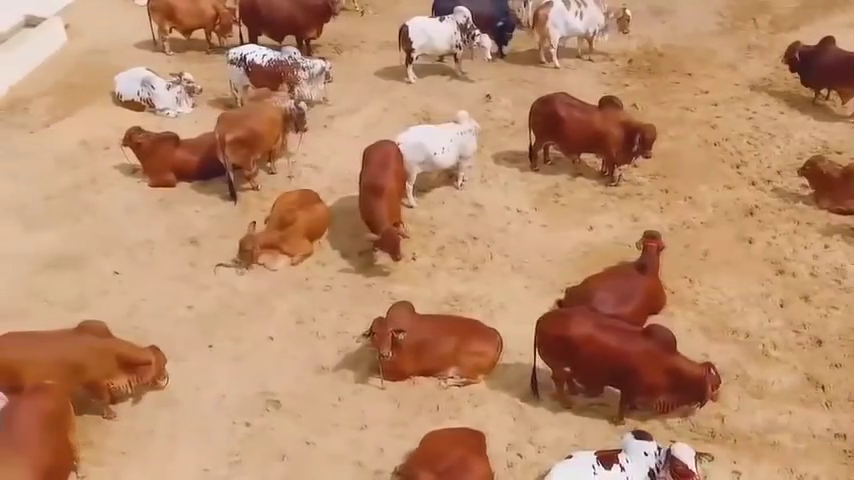bo: (514, 293, 729, 425), (9, 313, 170, 421), (513, 77, 657, 191), (367, 289, 513, 397), (220, 172, 339, 280), (208, 80, 315, 194), (558, 218, 681, 315), (526, 416, 709, 479), (392, 99, 483, 212), (5, 372, 97, 480), (346, 127, 414, 265), (116, 121, 229, 198), (391, 5, 501, 83), (524, 4, 646, 69), (218, 4, 357, 60), (779, 27, 854, 123), (228, 41, 337, 107), (390, 414, 494, 479), (425, 1, 524, 65), (106, 53, 198, 120), (791, 144, 854, 224), (135, 3, 232, 51)
